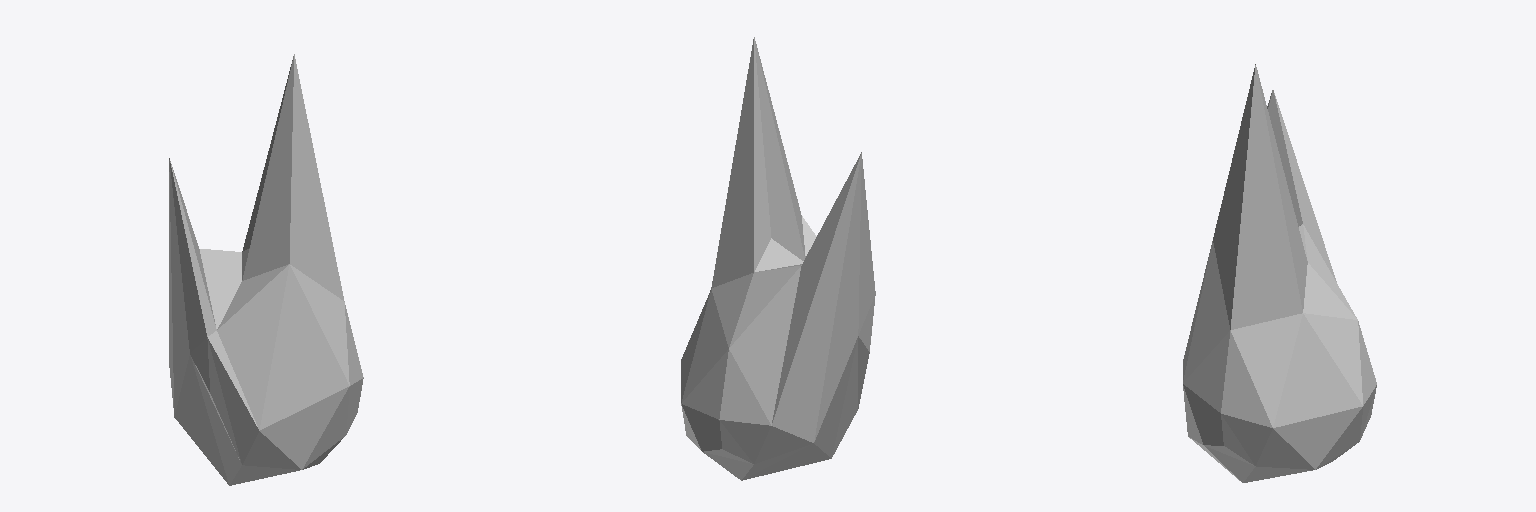
The model's file is fire_solid.obj.
3 renders of one model, left to right at view 1: azimuth 30°, elevation 25°; view 2: azimuth 150°, elevation 25°; view 3: azimuth 270°, elevation 25°, orthographic.
Parts seen in each view (by area): view 1: Campfire; view 2: Campfire; view 3: Campfire.
Boxes of the visible parts, <box> form: Campfire: <box>169,54,363,485</box>; Campfire: <box>681,37,875,480</box>; Campfire: <box>1183,64,1376,482</box>.
Size of the model in its own units: 2.05 by 4.46 by 1.92.